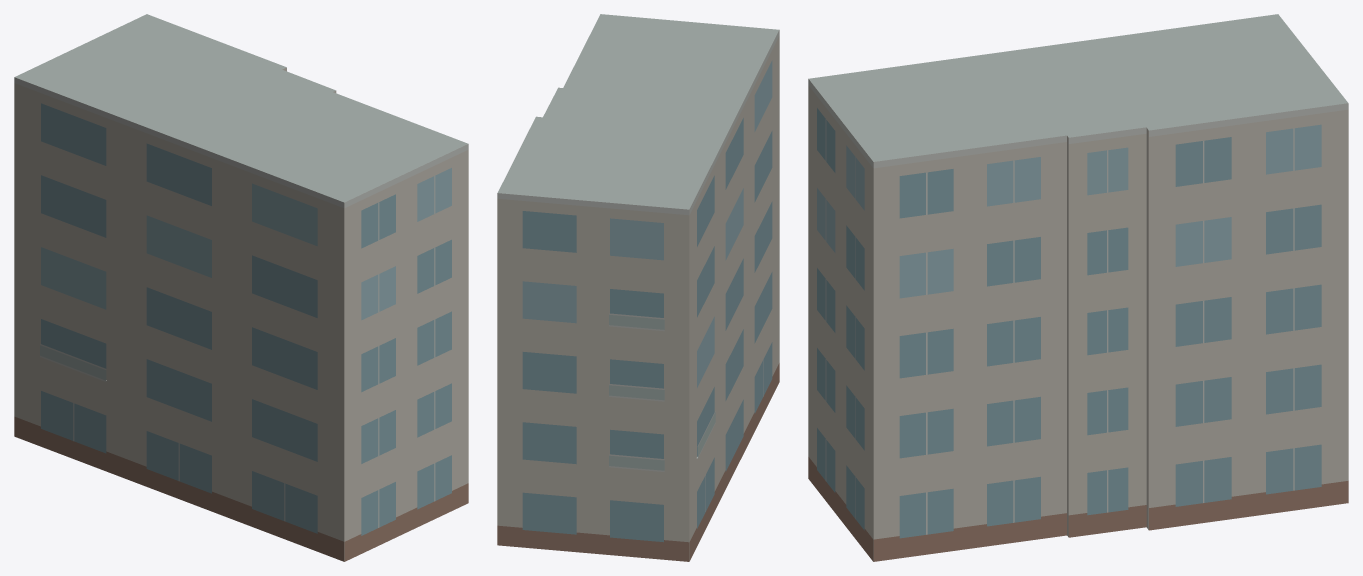
File: survey-upis-32753730.glb
3 renders of one model, left to right at view 1: azimuth 30°, elevation 25°; view 2: azimuth 150°, elevation 25°; view 3: azimuth 270°, elevation 25°, orthographic. The views are drawn at different scales.
Visible parts, largest first — view 1: survey-upis-32753730.tmp; view 2: survey-upis-32753730.tmp; view 3: survey-upis-32753730.tmp.
Part boxes in pixels (x1=…): survey-upis-32753730.tmp: x1=14, y1=14, x2=468, y2=561; survey-upis-32753730.tmp: x1=497, y1=14, x2=779, y2=561; survey-upis-32753730.tmp: x1=808, y1=14, x2=1348, y2=561.
Bounding box in the file's own units: 12.11 × 15.25 × 18.68.
